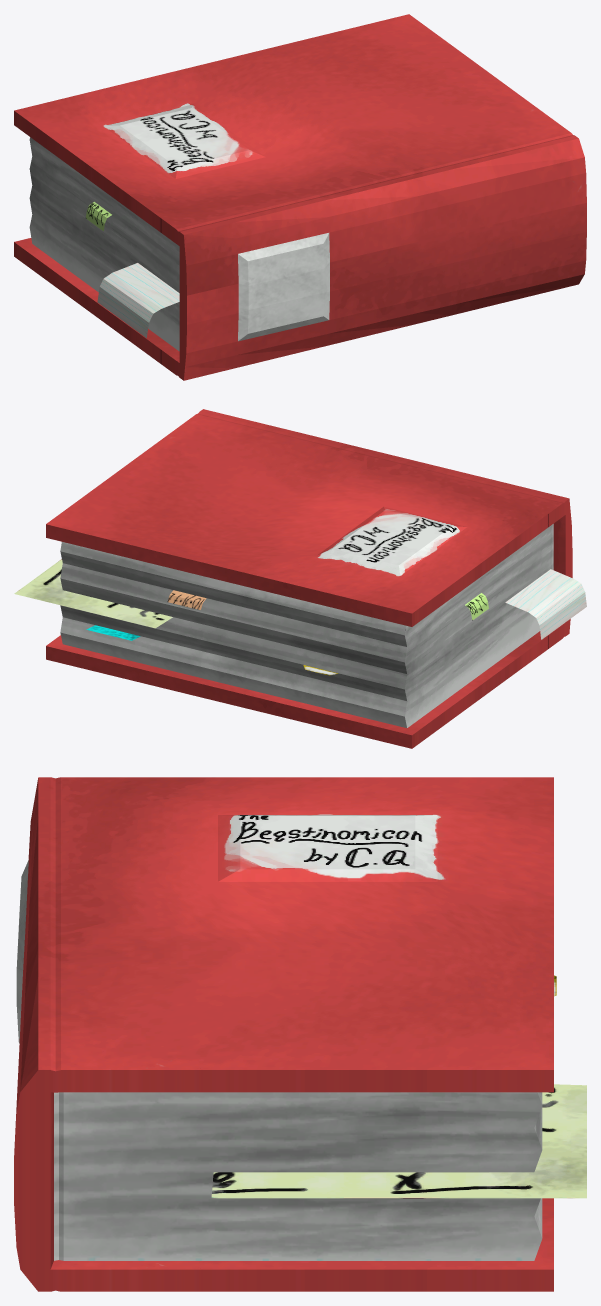
Rendered from book.glb.
The picture shows the model from 3 angles, top to bottom: view 1: azimuth 30°, elevation 25°; view 2: azimuth 150°, elevation 25°; view 3: azimuth 270°, elevation 25°; orthographic projection. The views are drawn at different scales.
Parts seen in each view (by area): view 1: book_will.smd; view 2: book_will.smd; view 3: book_will.smd.
Part boxes in pixels (x1,y1,x2,y2): book_will.smd: (14, 14, 586, 380); book_will.smd: (14, 409, 586, 748); book_will.smd: (14, 777, 586, 1291).
Size of the model in its own units: 0.7321 by 0.2347 by 0.5354.
Materials: 1 (1 with a texture image).
